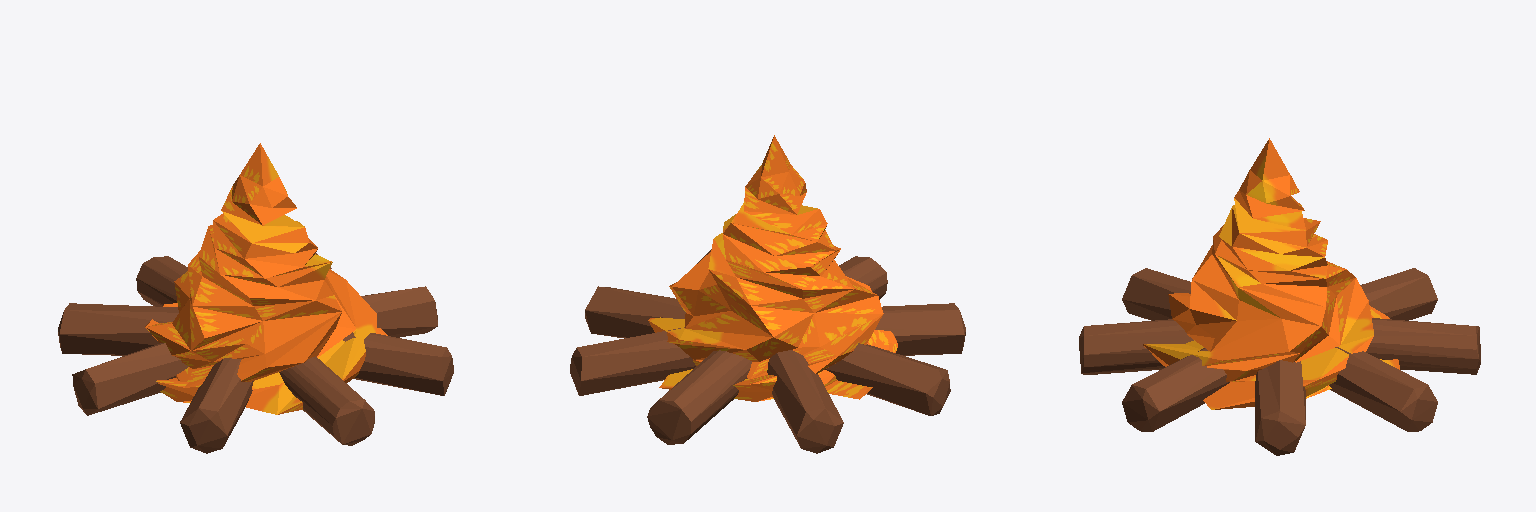
The picture shows the model from 3 angles: view 1: azimuth 30°, elevation 25°; view 2: azimuth 150°, elevation 25°; view 3: azimuth 270°, elevation 25°; orthographic projection.
Visible parts, largest first — view 1: Cone, Cylinder.157; view 2: Cone, Cylinder.157; view 3: Cone, Cylinder.157.
Boxes of the visible parts, x1,y1,x2,y2 form: Cone: [145, 143, 387, 414]; Cylinder.157: [58, 253, 453, 453]; Cone: [648, 135, 897, 401]; Cylinder.157: [570, 249, 965, 453]; Cone: [1143, 138, 1399, 409]; Cylinder.157: [1079, 268, 1480, 455].
Bounding box in the file's own units: 2.51 × 1.62 × 2.52.
Materials: 2 (2 with a texture image).